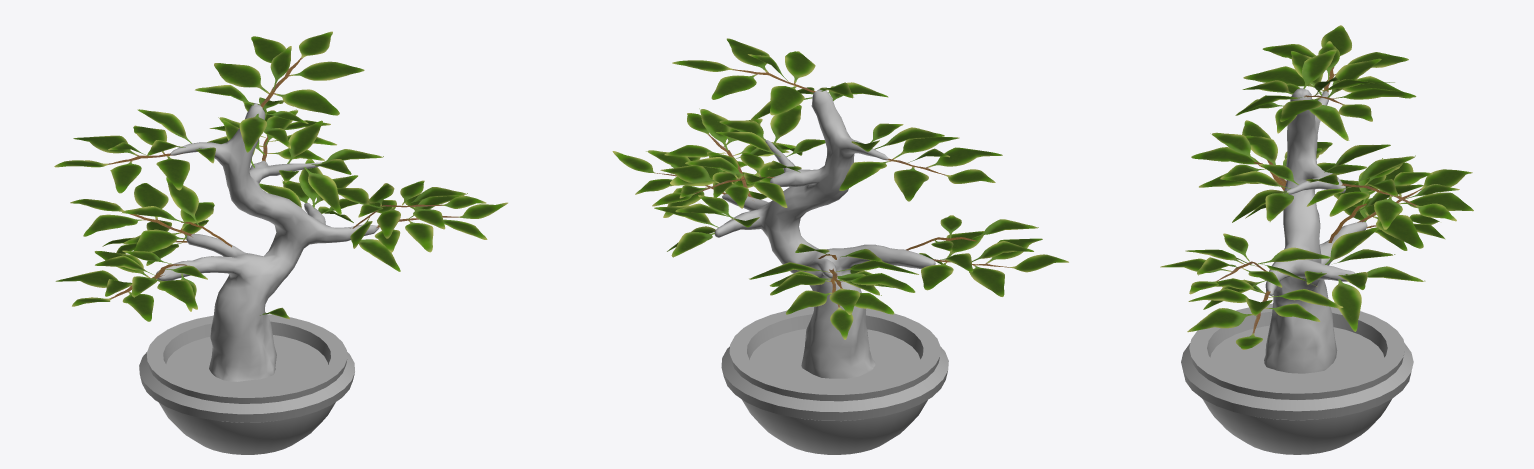
Rendered from Bonsai_Final.fbx.
The picture shows the model from 3 angles, left to right: view 1: azimuth 30°, elevation 25°; view 2: azimuth 150°, elevation 25°; view 3: azimuth 270°, elevation 25°; orthographic projection. The views are drawn at different scales.
Parts seen in each view (by area): view 1: Leaves, Plant_Pot, Retopo_New; view 2: Leaves, Plant_Pot, Retopo_New; view 3: Leaves, Plant_Pot, Retopo_New.
Boxes of the visible parts, x1,y1,x2,y2 form: Leaves: [54, 31, 507, 321]; Plant_Pot: [139, 314, 354, 454]; Retopo_New: [156, 103, 379, 381]; Leaves: [612, 38, 1068, 339]; Plant_Pot: [721, 307, 948, 454]; Retopo_New: [714, 89, 935, 378]; Leaves: [1160, 25, 1473, 349]; Plant_Pot: [1181, 303, 1413, 454]; Retopo_New: [1264, 88, 1367, 373].
Size of the model in its own units: 63.49 by 44.72 by 40.29.
